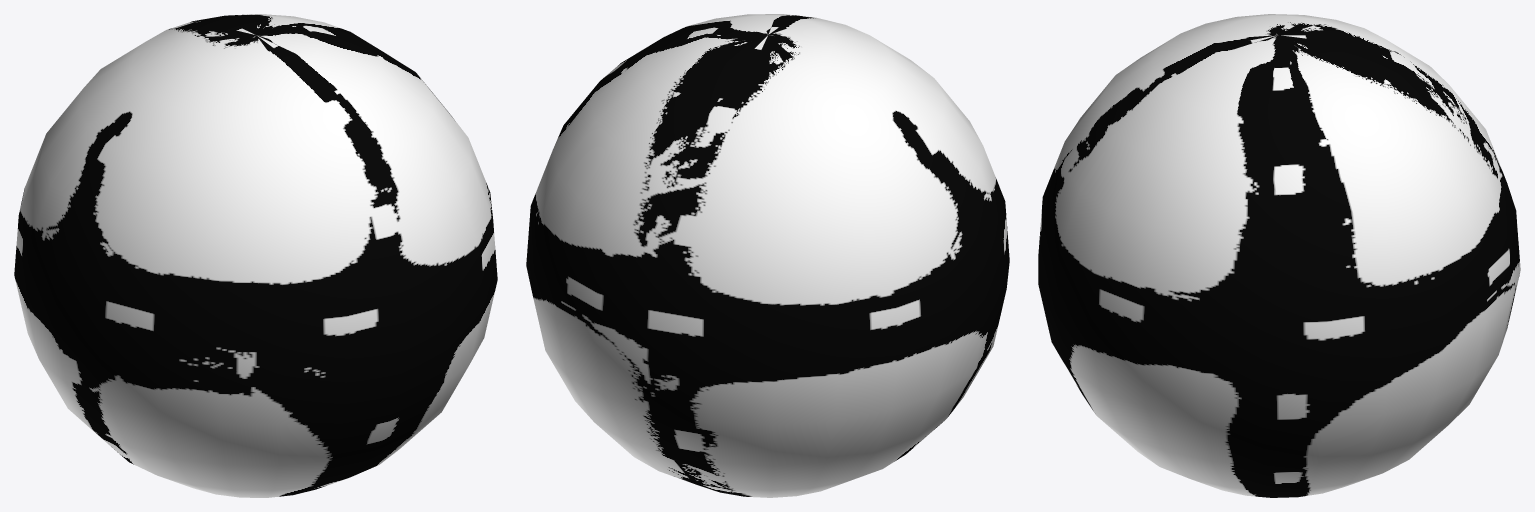
The model's file is Holdsphere.FBX.
3 renders of one model, left to right at view 1: azimuth 30°, elevation 25°; view 2: azimuth 150°, elevation 25°; view 3: azimuth 270°, elevation 25°, orthographic.
Parts seen in each view (by area): view 1: Holdsphere; view 2: Holdsphere; view 3: Holdsphere.
Boxes of the visible parts, x1,y1,x2,y2 form: Holdsphere: (14, 14, 497, 497); Holdsphere: (526, 14, 1009, 497); Holdsphere: (1038, 14, 1520, 497).
Bounding box in the file's own units: 18.88 × 18.97 × 18.83.
